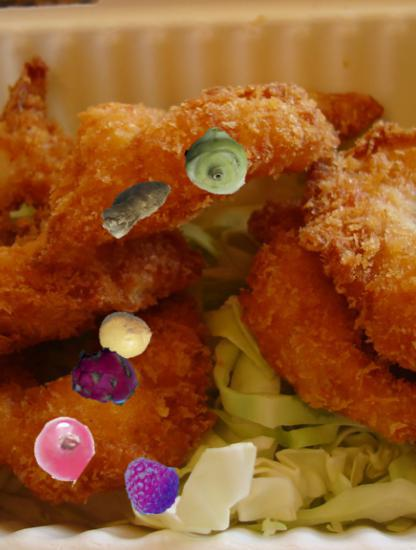Ginger: (97, 167, 176, 246)
Kohlrabi: (184, 127, 252, 195)
Lemon: (98, 308, 153, 363)
Pitahaya: (70, 342, 140, 412)
Raspberry: (124, 457, 181, 514)
Redcurrant: (33, 417, 96, 480)
